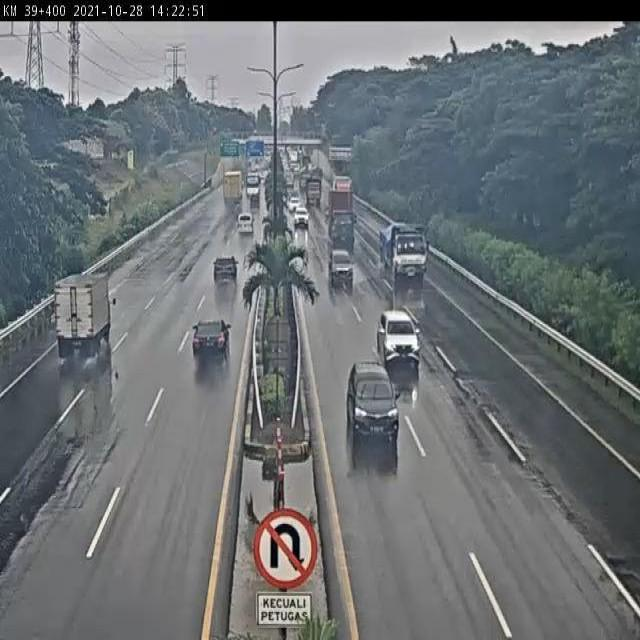car: (379, 308, 421, 364), (328, 250, 354, 290)
truck-l-: (381, 220, 436, 287)
truck-m-: (54, 270, 120, 358)
truck-xl-: (327, 189, 356, 244)
